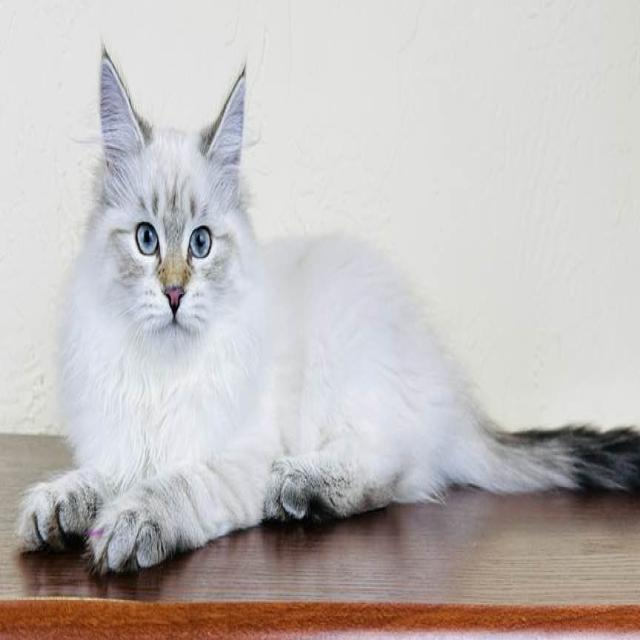Neva Masquerade: (12, 42, 640, 581)
